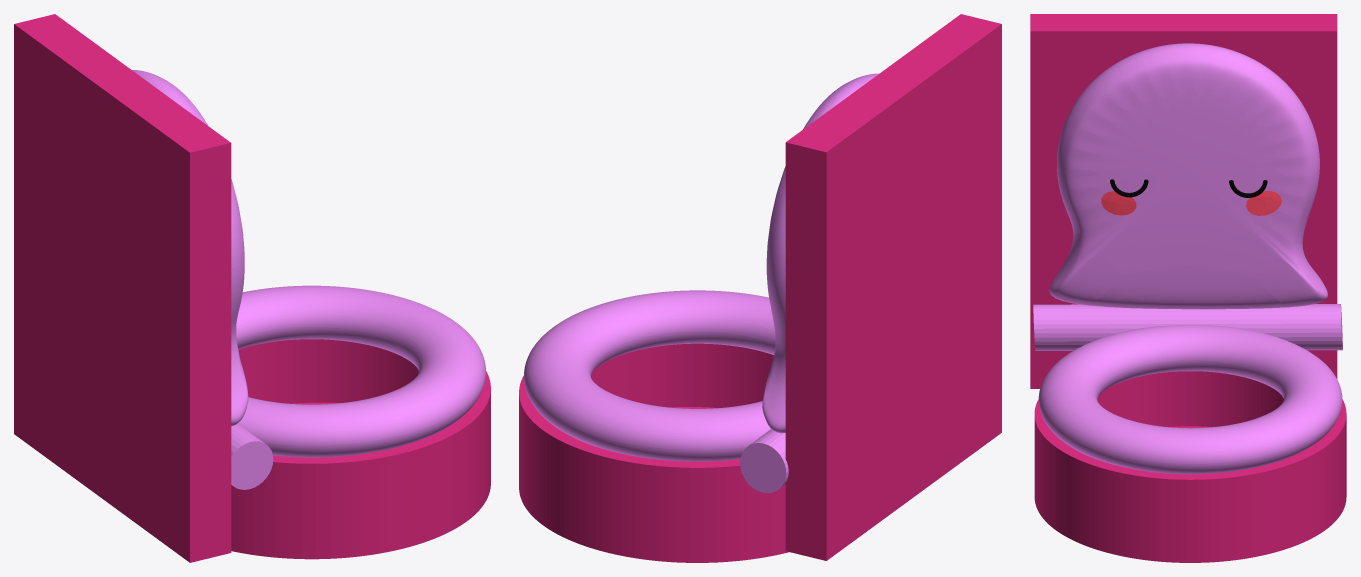
File: toiletdef2.fbx
The picture shows the model from 3 angles, left to right: view 1: azimuth 30°, elevation 25°; view 2: azimuth 150°, elevation 25°; view 3: azimuth 270°, elevation 25°; orthographic projection. The views are drawn at different scales.
Parts seen in each view (by area): view 1: Tapa Back.001, Tapa lower.001, Cylinder.004, Cylinder.002, Tapa.001, Cylinder.001; view 2: Tapa Back.001, Cylinder.004, Tapa lower.001, Cylinder.002, Tapa.001, Cylinder.001; view 3: Tapa.001, Tapa Back.001, Cylinder.004, Tapa lower.001, Cylinder.001, Cylinder.002, Plane.011, Plane.012.
Boxes of the visible parts, <box> form: Tapa Back.001: <box>14,14,231,562</box>; Tapa lower.001: <box>236,285,485,457</box>; Cylinder.004: <box>231,371,490,559</box>; Cylinder.002: <box>238,339,418,404</box>; Tapa.001: <box>132,70,248,426</box>; Cylinder.001: <box>231,423,273,489</box>; Tapa Back.001: <box>785,14,1001,560</box>; Cylinder.004: <box>519,375,788,562</box>; Tapa lower.001: <box>524,290,775,461</box>; Cylinder.002: <box>591,343,773,408</box>; Tapa.001: <box>762,73,878,433</box>; Cylinder.001: <box>740,429,788,493</box>; Tapa.001: <box>1049,43,1327,309</box>; Tapa Back.001: <box>1030,14,1337,388</box>; Cylinder.004: <box>1034,399,1346,562</box>; Tapa lower.001: <box>1038,325,1342,474</box>; Cylinder.001: <box>1033,304,1342,350</box>; Cylinder.002: <box>1097,371,1283,428</box>; Plane.011: <box>1246,191,1281,215</box>; Plane.012: <box>1101,191,1136,215</box>.
Bounding box in the file's own units: 809 × 943 × 689.
